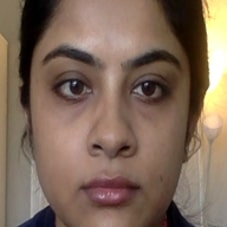awake: (39, 34, 185, 217)
